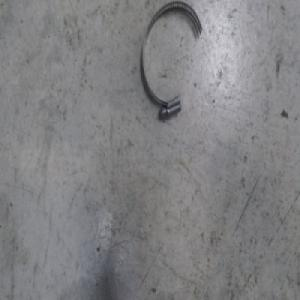AdjustableClamp: (140, 0, 203, 119)
